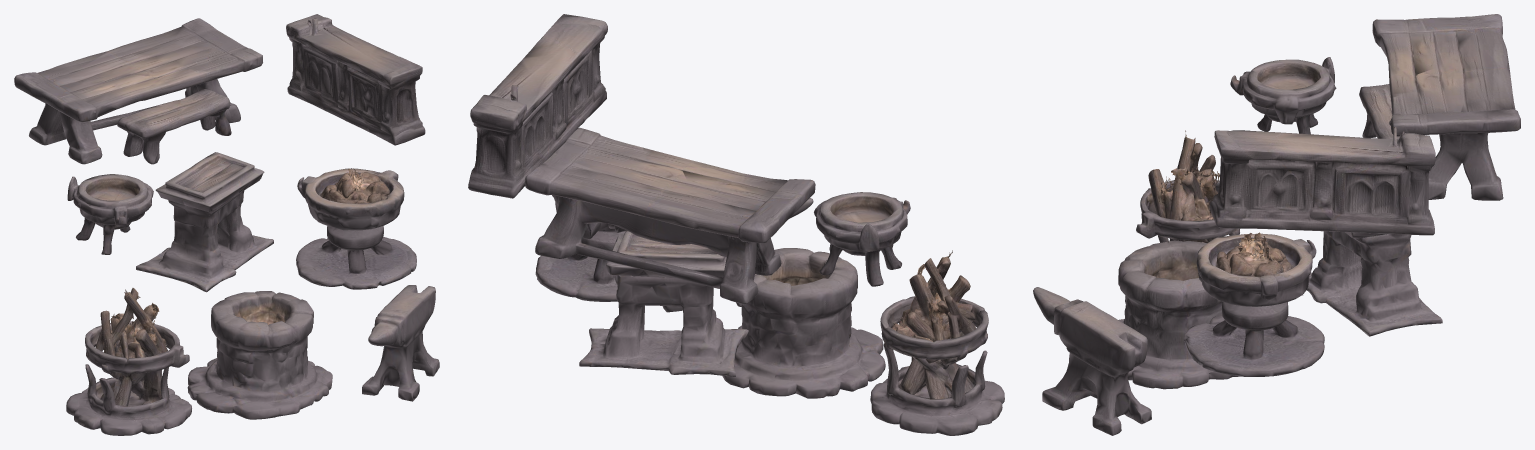
File: furniture_sheet_hearth_b.glb
The picture shows the model from 3 angles, left to right: view 1: azimuth 30°, elevation 25°; view 2: azimuth 150°, elevation 25°; view 3: azimuth 270°, elevation 25°; orthographic projection. The views are drawn at different scales.
Bounding box in the file's own units: 1.87 × 1.34 × 1.9.
Materials: 1 (1 with a texture image).
